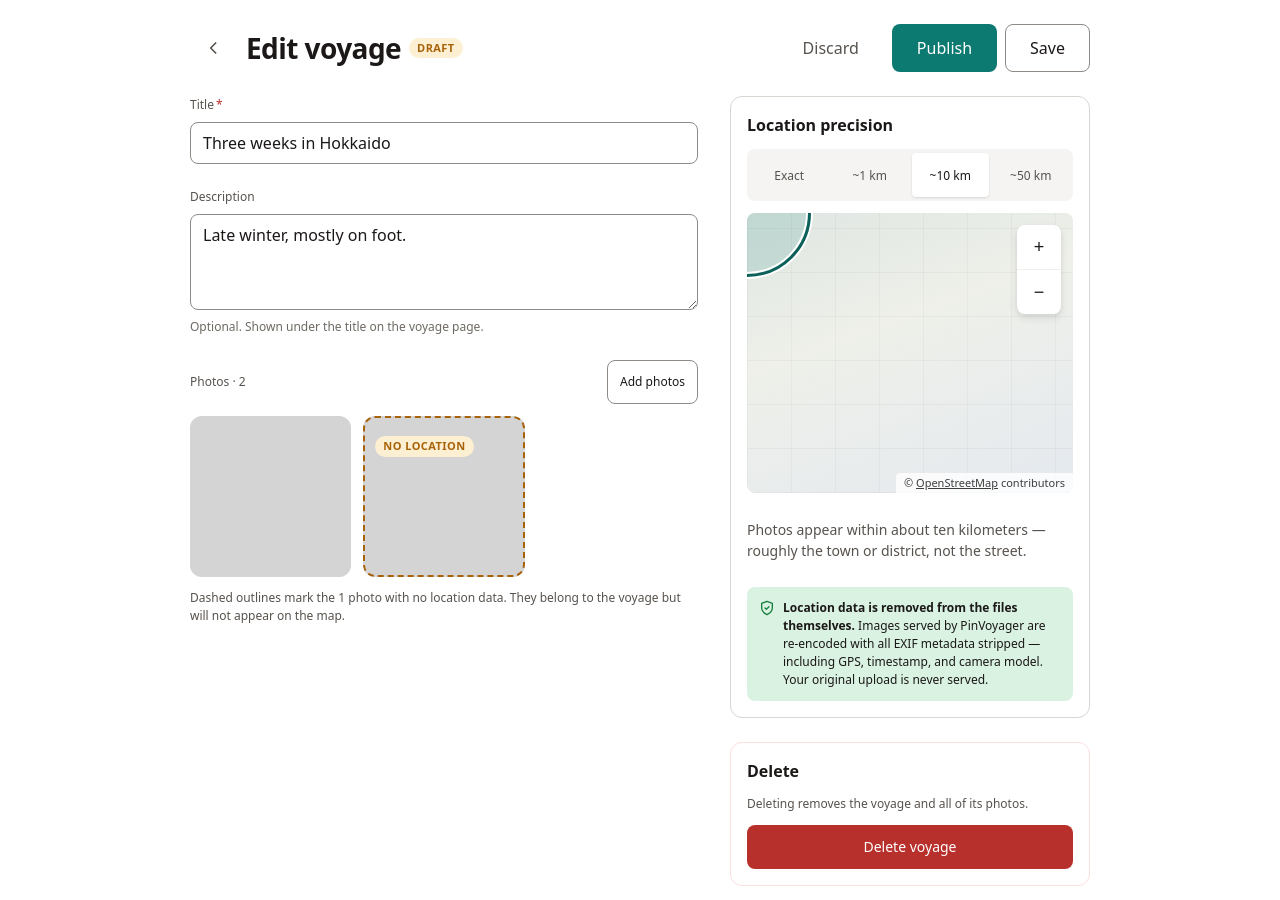
VoyageEdit — states › shows successful save feedback and allows it to be dismissed
This screenshot has width=1280, height=900.
Click the button "Save" at (1048, 48), box [1005, 24, 1090, 72]
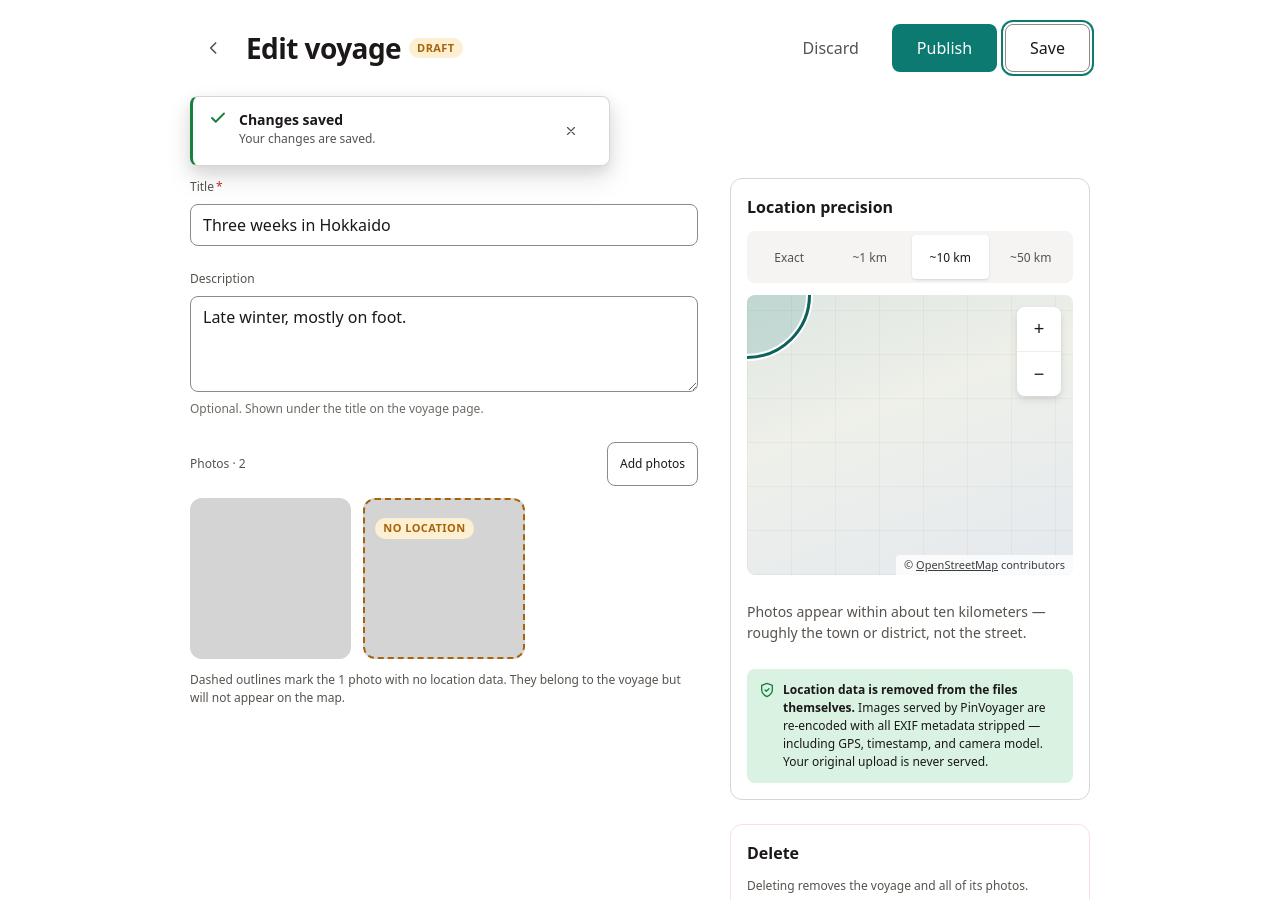
Check: the text "Your changes are saved." is shown, box [239, 130, 376, 148]
Click the button named "Dismiss" at (571, 131), box [549, 109, 593, 153]
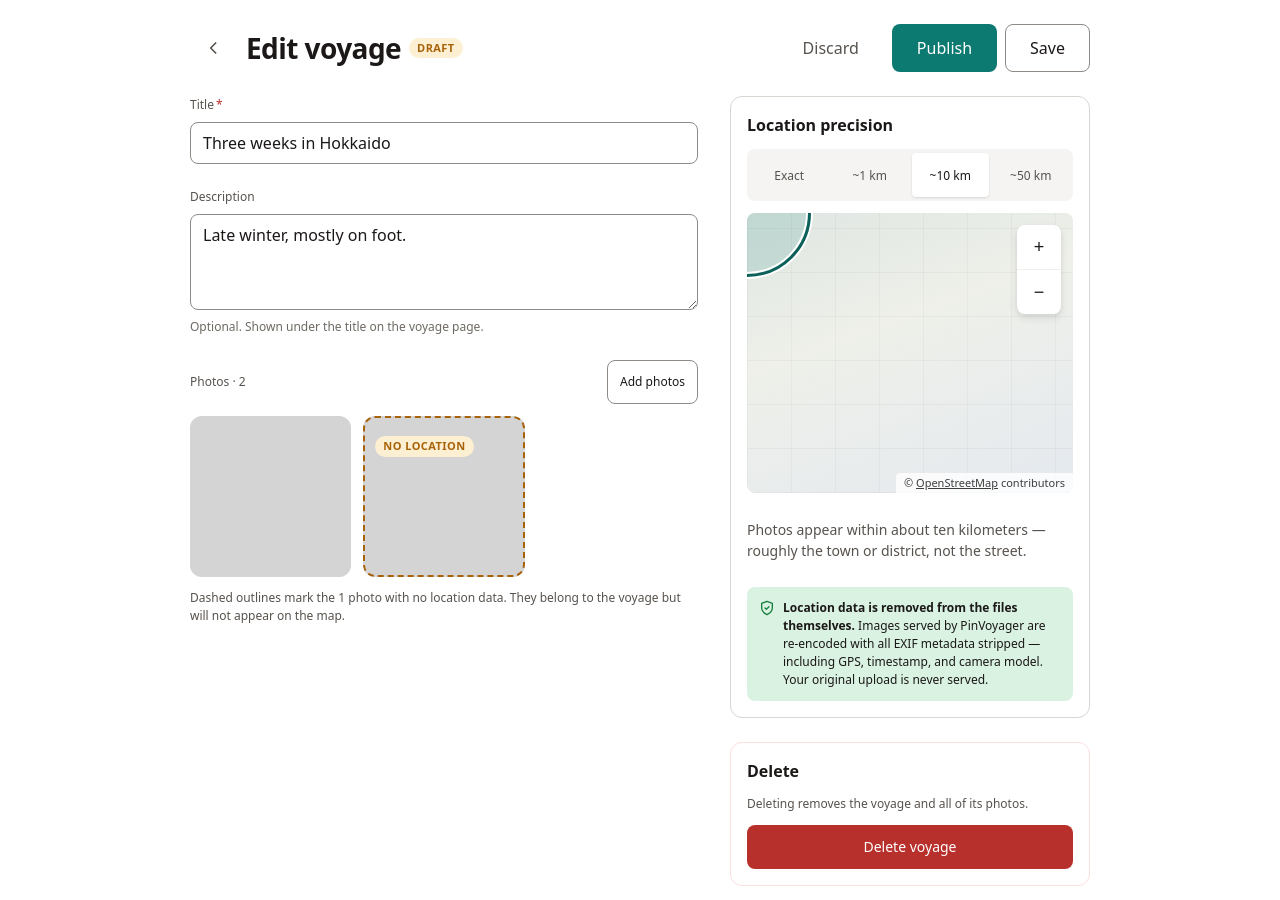
Check: the text "Your changes are saved." is gone
